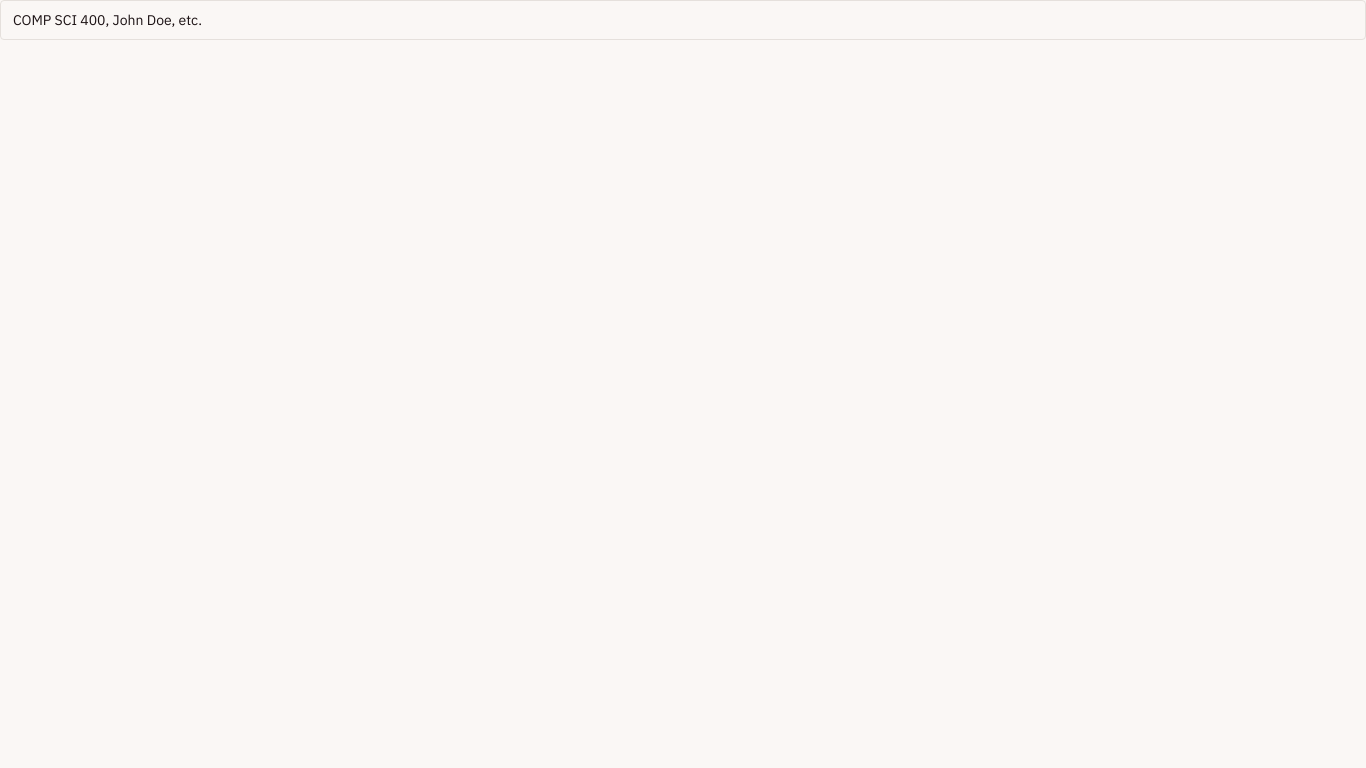
SearchAutocomplete › arrow down then Enter selects the first suggestion
In the dropdown: point(683, 20) [0,0,1365,40], type "comp"
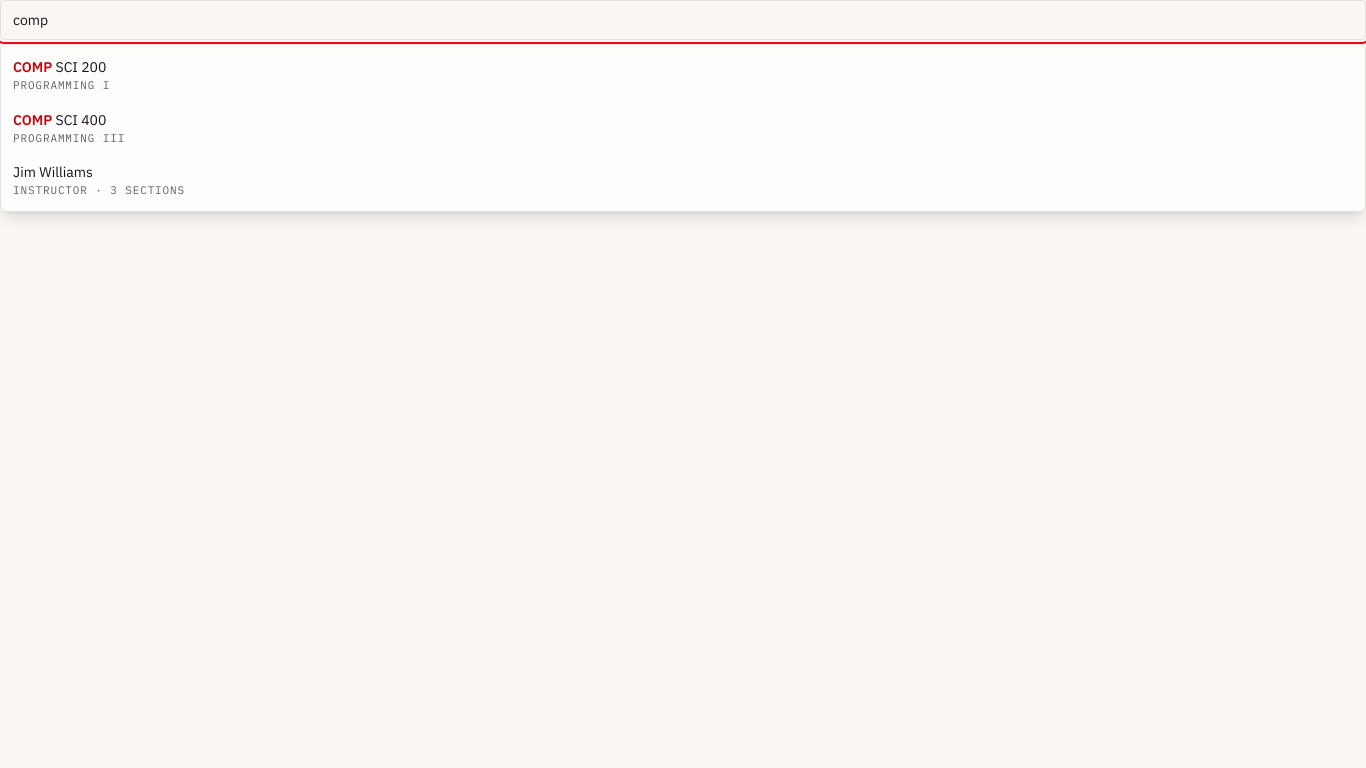
Expected: the option "COMP SCI 200 Programming I" is shown, [13,58,110,92]
Press Arrowdown Enter
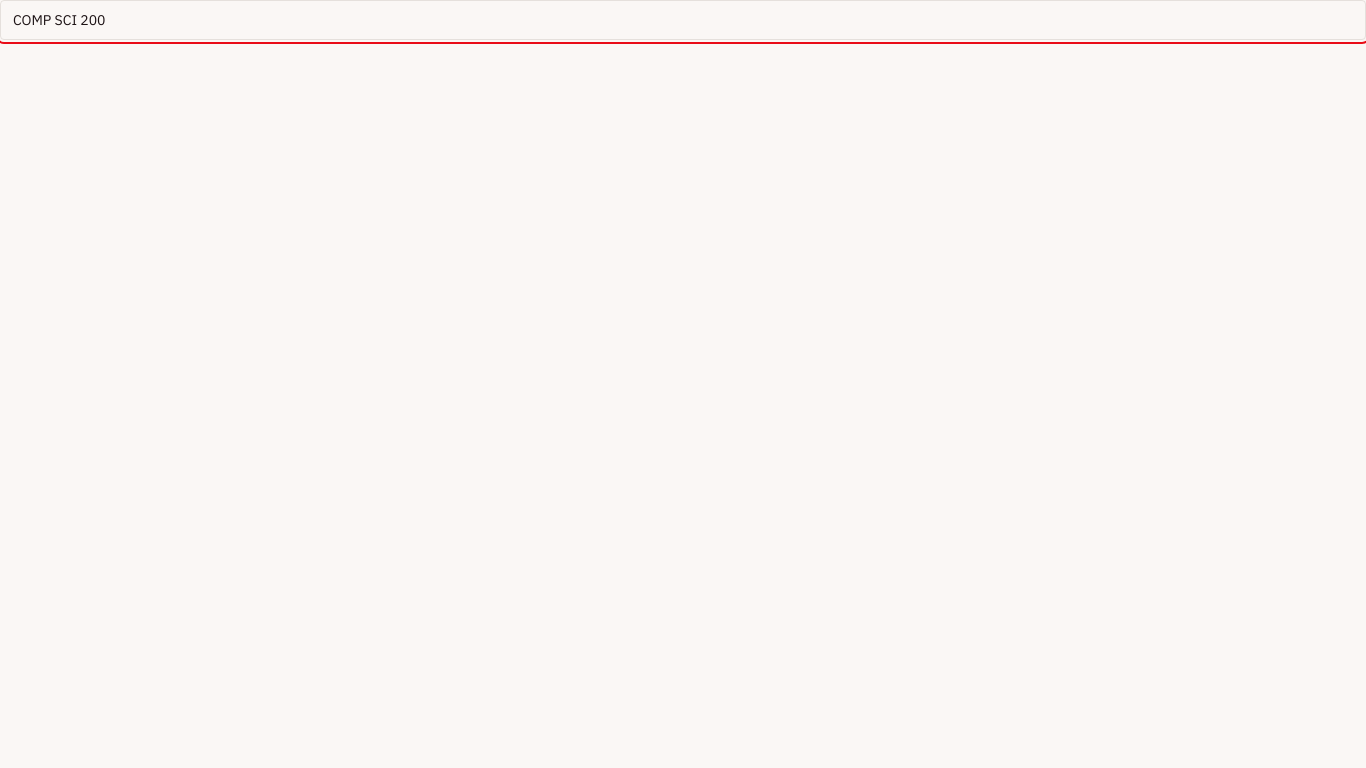
Expected: the dropdown holds "COMP SCI 200", [0,0,1365,40]
